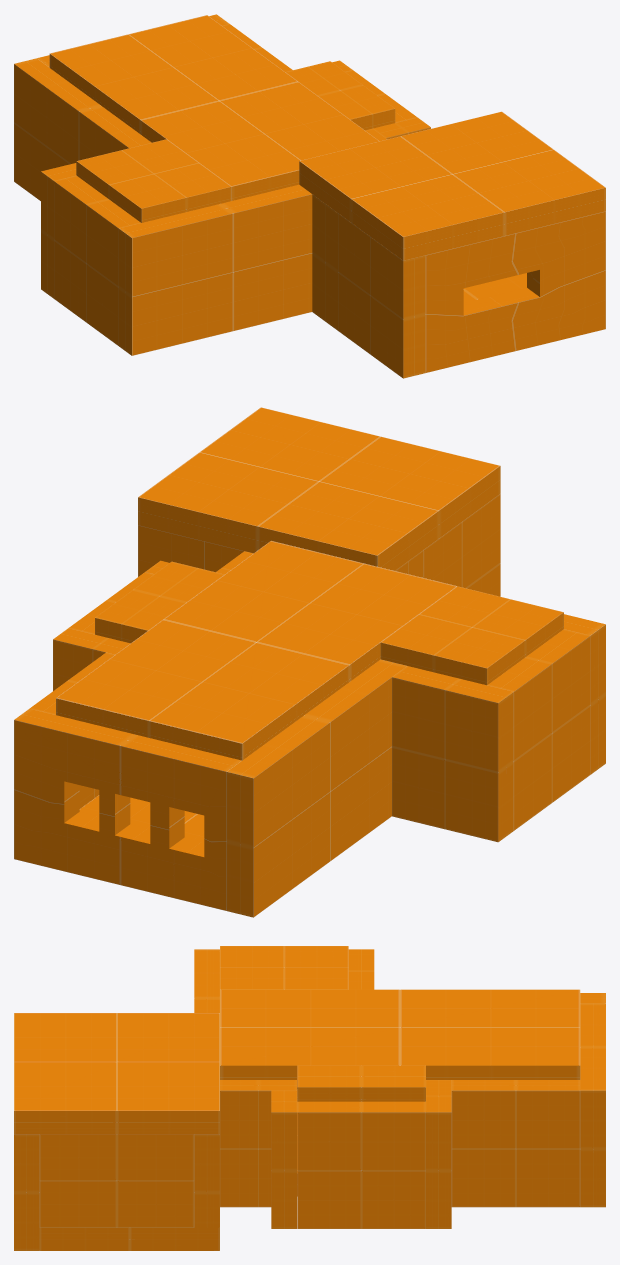
Rendered from playerHomeFitted.glb.
The picture shows the model from 3 angles, top to bottom: view 1: azimuth 30°, elevation 25°; view 2: azimuth 150°, elevation 25°; view 3: azimuth 270°, elevation 25°; orthographic projection. The views are drawn at different scales.
Visible parts, largest first — view 1: playerHome; view 2: playerHome; view 3: playerHome.
Boxes of the visible parts, x1=… form: playerHome: x1=14, y1=14, x2=605, y2=378; playerHome: x1=14, y1=407, x2=605, y2=917; playerHome: x1=14, y1=946, x2=605, y2=1250.
Bounding box in the file's own units: 17 × 6 × 23.
Materials: 3 (3 with a texture image).
